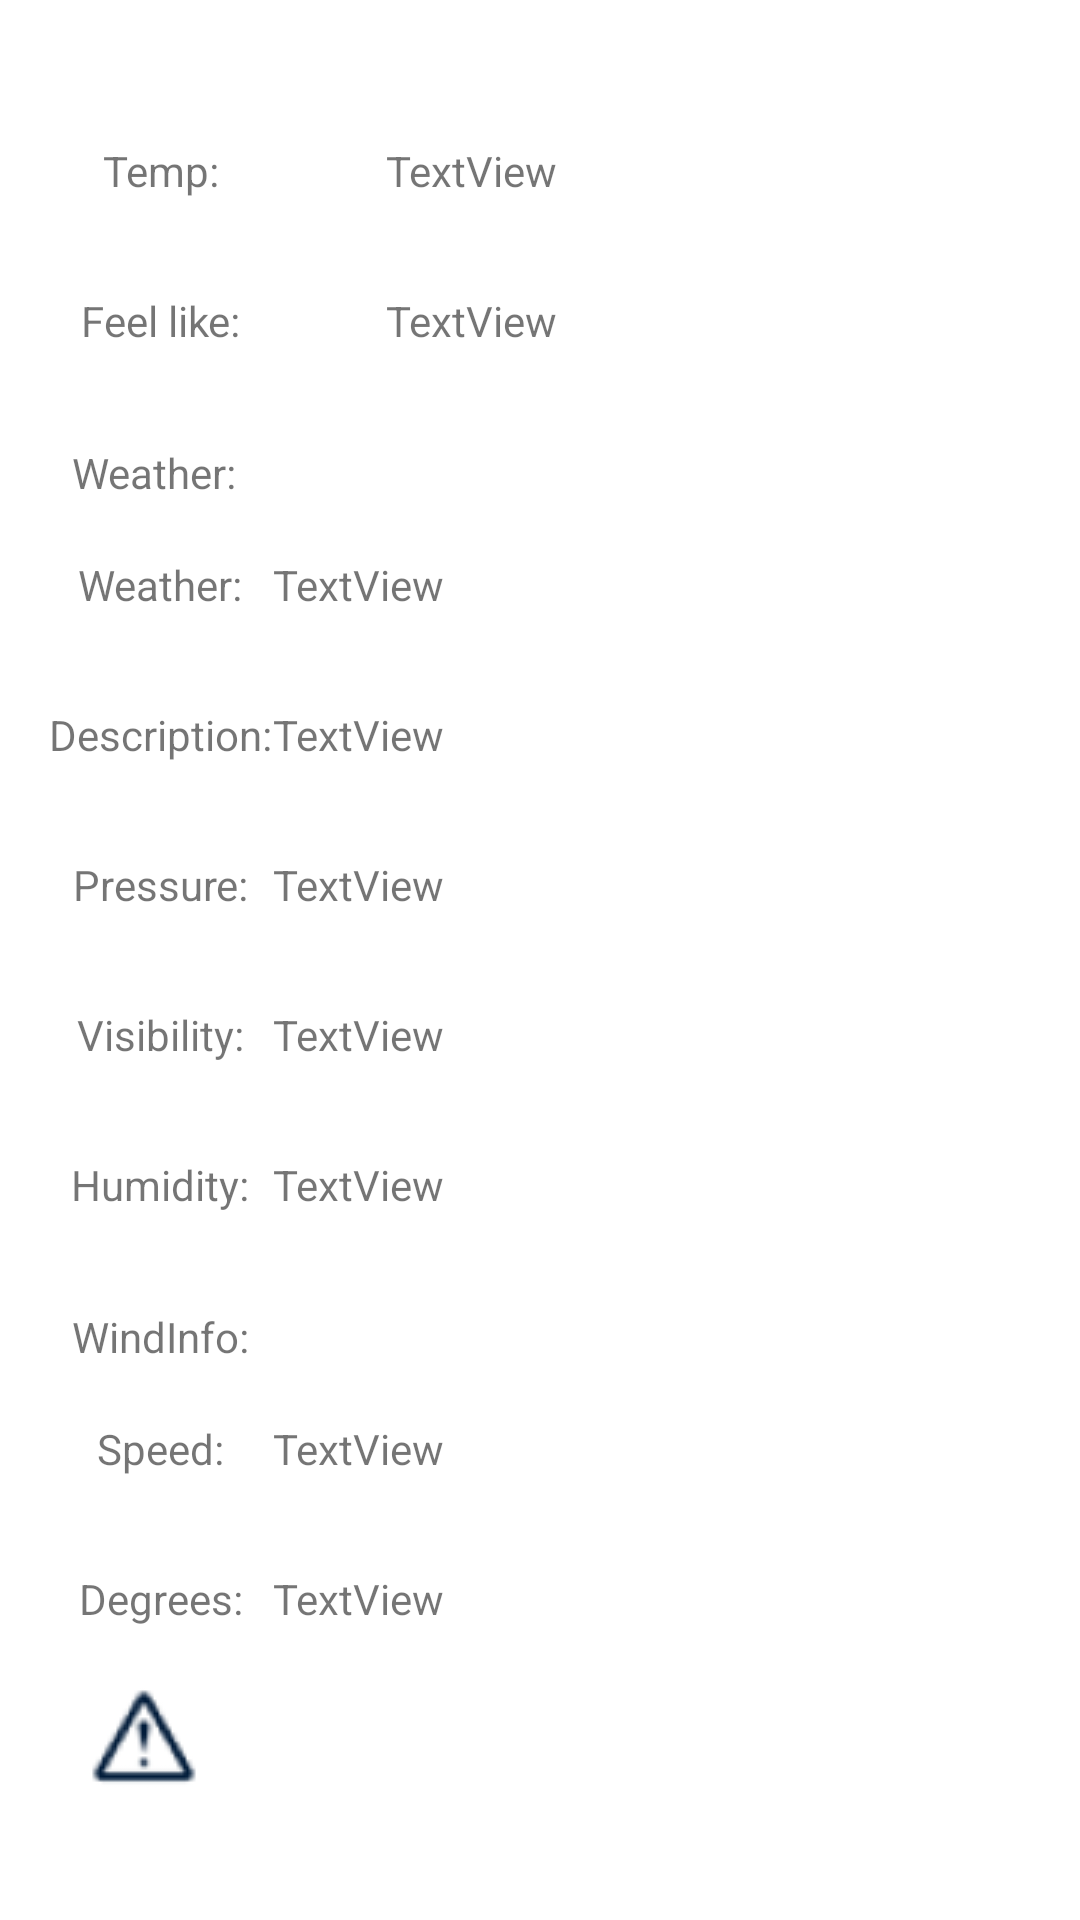

Icon bounding boxes for this 1080w x 1920h phone screenshot, format (x1, y1, x2, y2):
warning: (92, 1690, 196, 1782)
